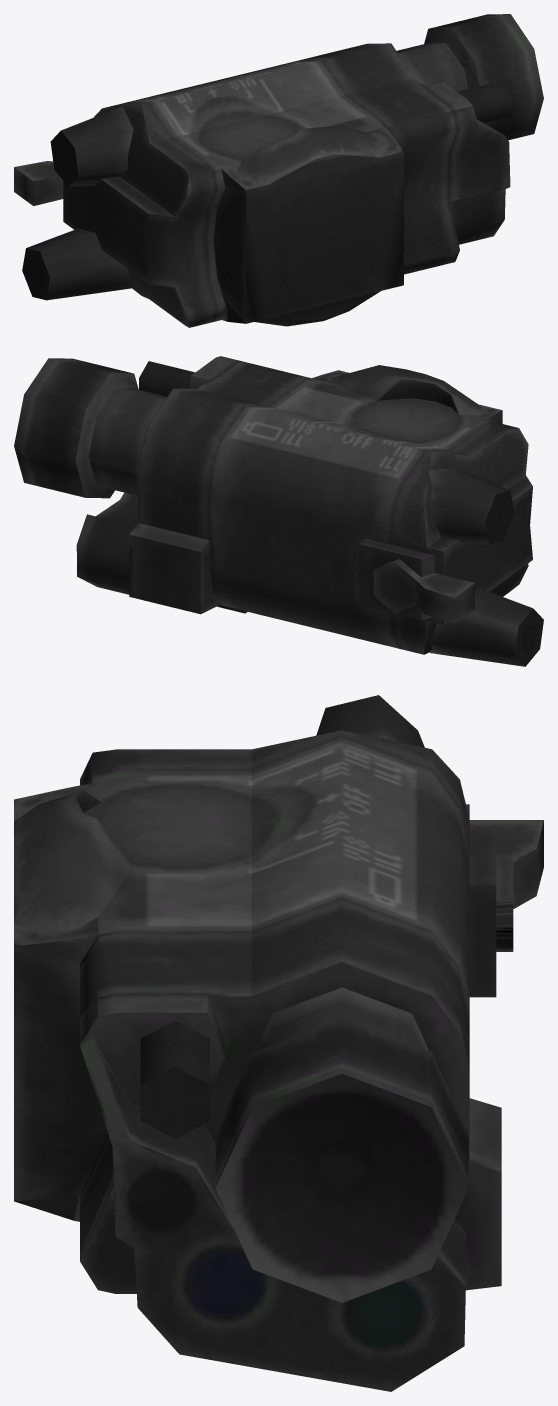
The model's file is t6_attach_wlp_world_LOD1.obj.
The picture shows the model from 3 angles, top to bottom: view 1: azimuth 30°, elevation 25°; view 2: azimuth 150°, elevation 25°; view 3: azimuth 270°, elevation 25°; orthographic projection. The views are drawn at different scales.
Visible parts, largest first — view 1: mtl_t6_attach_wlp; view 2: mtl_t6_attach_wlp; view 3: mtl_t6_attach_wlp.
Boxes of the visible parts, left/top/right/bottom form: mtl_t6_attach_wlp: left=14, top=14, right=543, bottom=327; mtl_t6_attach_wlp: left=14, top=356, right=543, bottom=666; mtl_t6_attach_wlp: left=14, top=695, right=543, bottom=1391.
Bounding box in the file's own units: 11.71 × 4.79 × 6.02.
